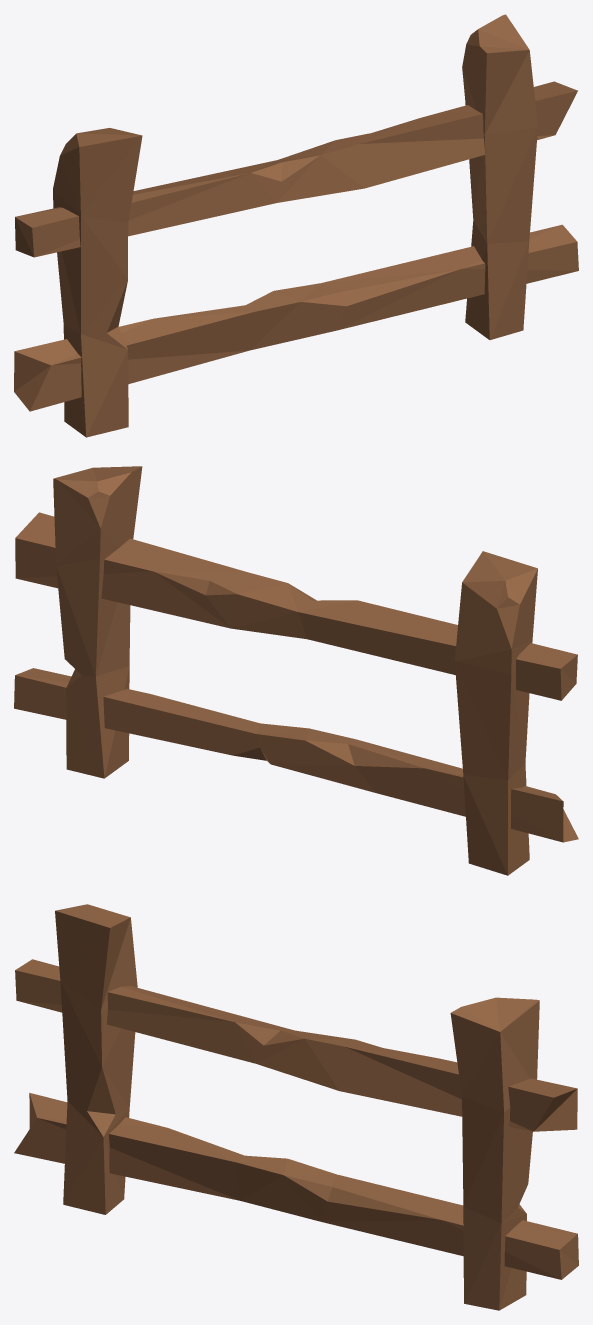
Rendered from fence.fbx.
3 views of the same model, one above another, from view 1: azimuth 30°, elevation 25°; view 2: azimuth 150°, elevation 25°; view 3: azimuth 330°, elevation 25° (orthographic).
Parts seen in each view (by area): view 1: fence; view 2: fence; view 3: fence.
Boxes of the visible parts, x1,y1,x2,y2 form: fence: [14, 14, 578, 437]; fence: [14, 466, 578, 875]; fence: [14, 904, 578, 1310].
Bounding box in the file's own units: 600 × 306 × 66.48.
